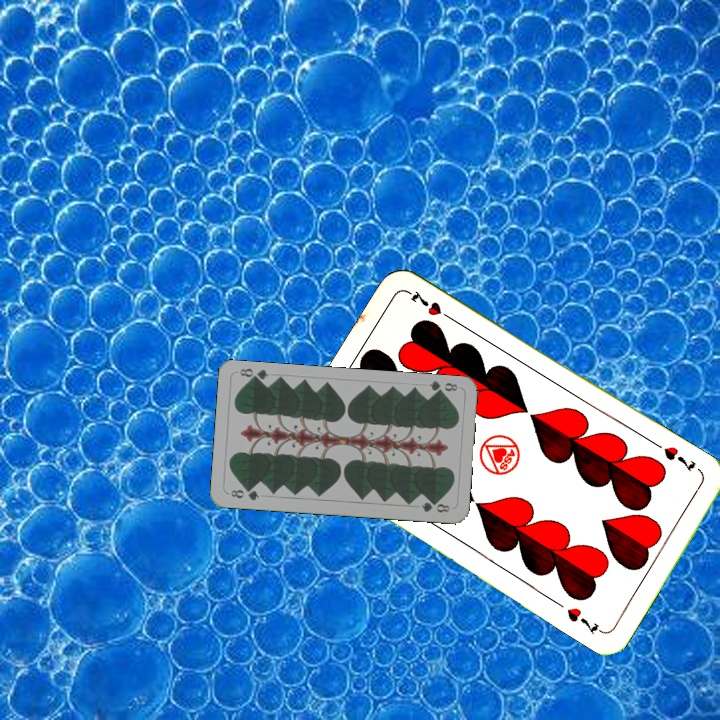G8: (425, 377, 460, 397), (226, 485, 262, 503)
H7: (659, 442, 698, 474)
